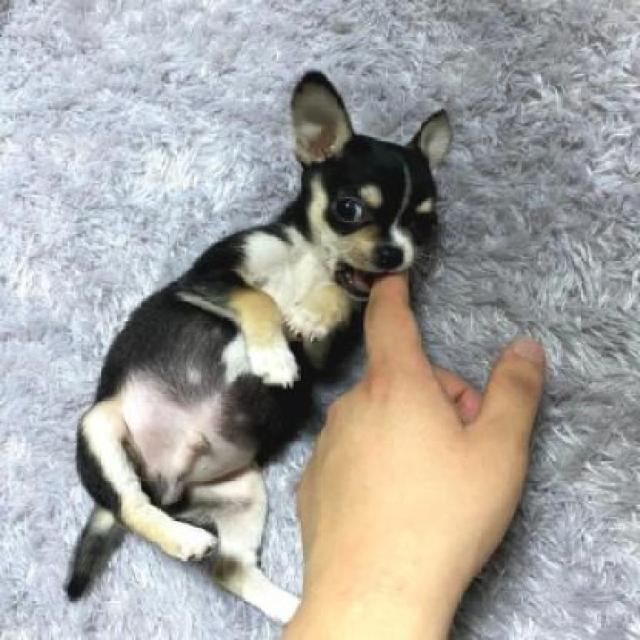Dog: (59, 68, 458, 626)
